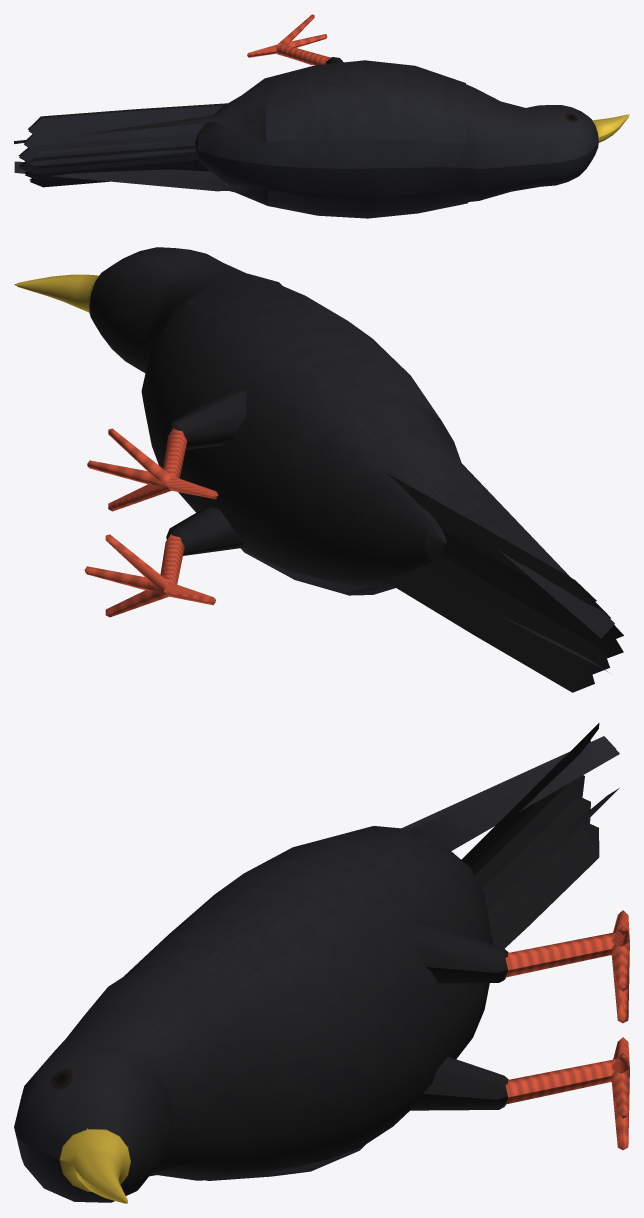
The model's file is bird_chough.obj.
3 renders of one model, top to bottom at view 1: azimuth 30°, elevation 25°; view 2: azimuth 150°, elevation 25°; view 3: azimuth 270°, elevation 25°, orthographic. The views are drawn at different scales.
Parts seen in each view (by area): view 1: bird_chough; view 2: bird_chough; view 3: bird_chough.
Part boxes in pixels (<box>): bird_chough: <box>14,14,629,218</box>; bird_chough: <box>14,247,623,692</box>; bird_chough: <box>14,723,629,1203</box>.
Size of the model in its own units: 0.3881 by 0.1081 by 0.218.
1 material, 1 textured.
